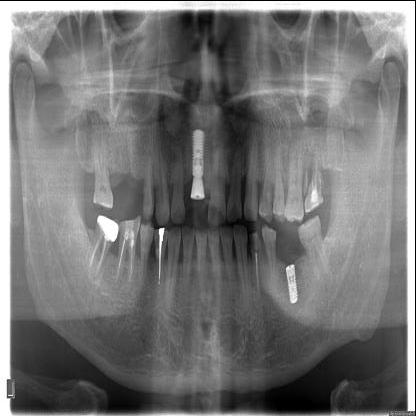ITI: (188, 120, 208, 178), (283, 260, 304, 308)
